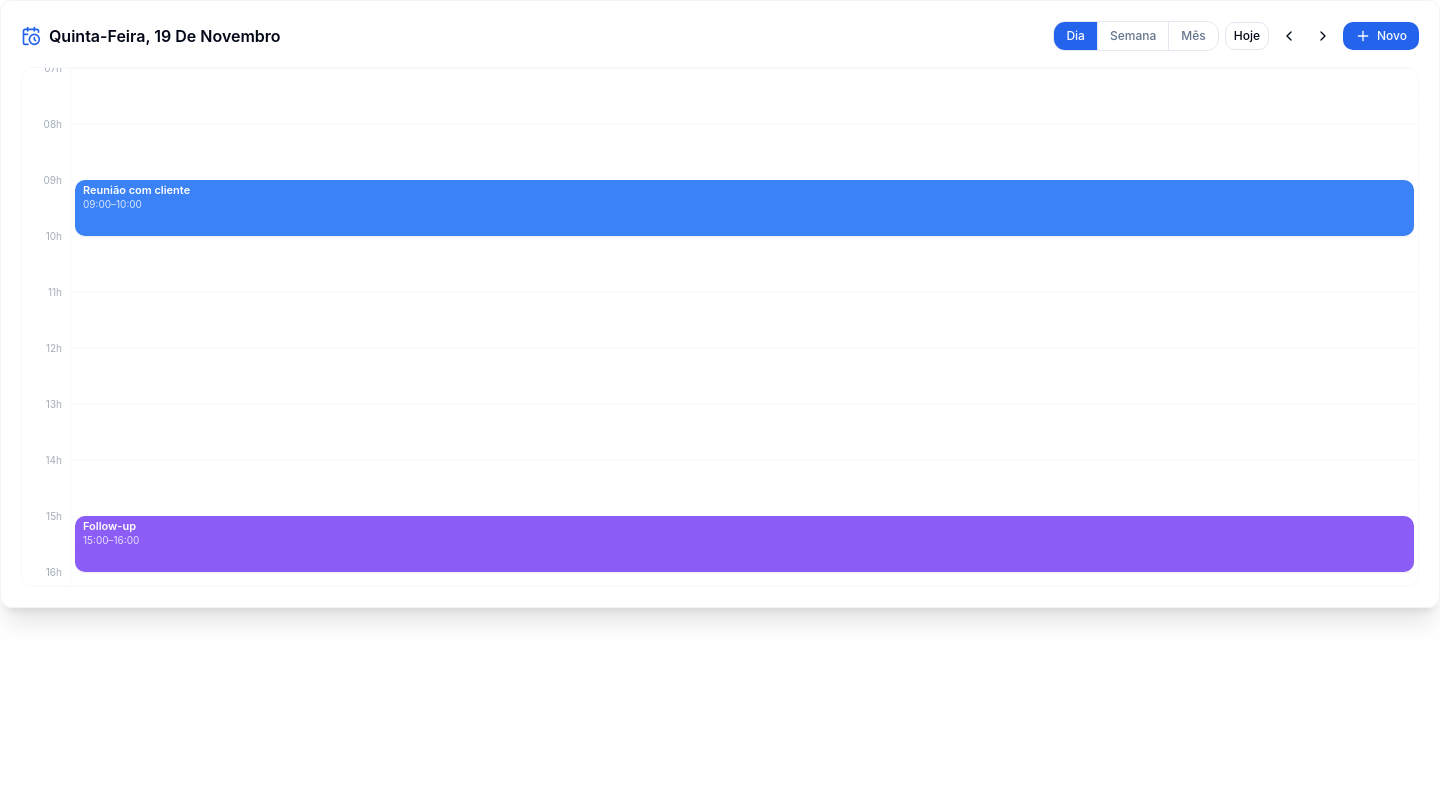
Test: AgendaPJ (personal agenda, day view) › keeps the personal popover actions working on the original row
Click the text "Reunião com cliente" at (137,191), box left=83, top=184, right=190, bottom=198
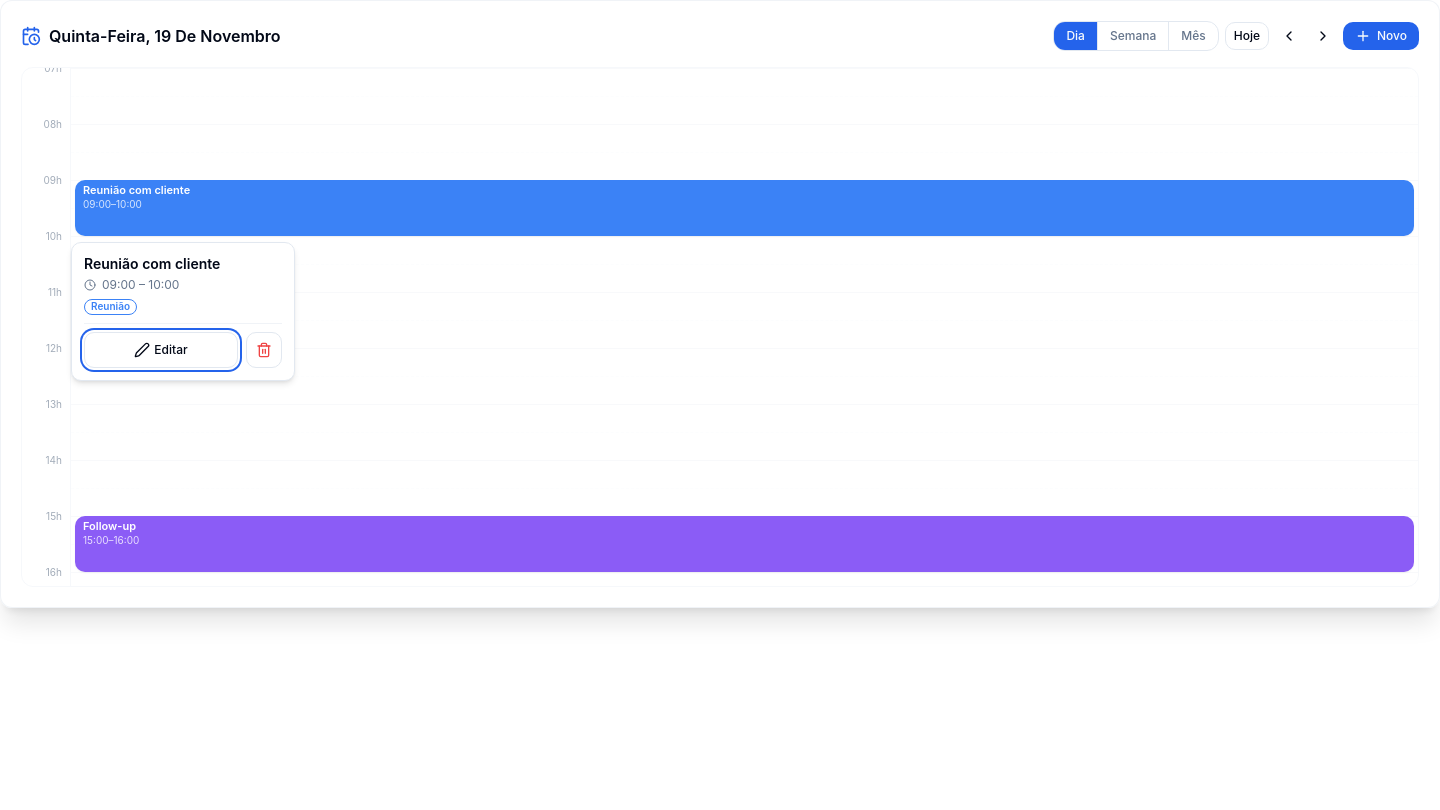
Expected: the text "09:00 – 10:00" is shown, left=102, top=276, right=179, bottom=292
Expected: the text "Reunião" is shown, left=84, top=298, right=137, bottom=314
Expected: the button "Editar" is shown, left=84, top=332, right=238, bottom=368
